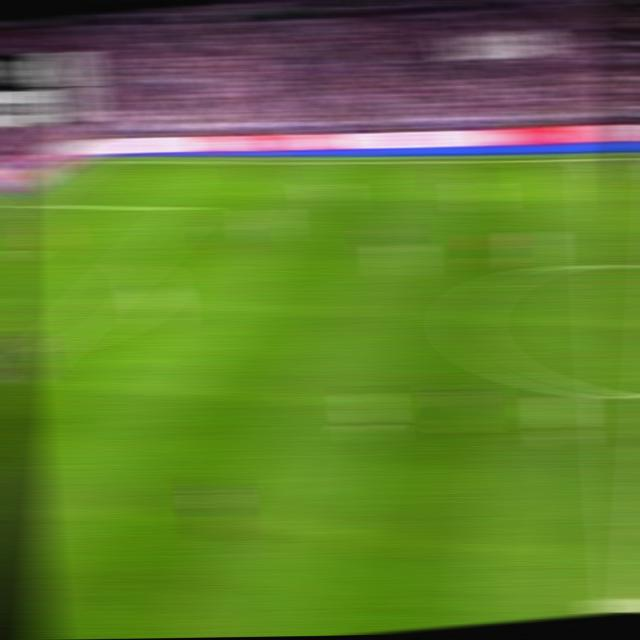bigarea_top_inner: (175, 200, 203, 215)
bigarea_top_outter: (11, 198, 38, 207)
bottom_arc_area_intersection: (33, 339, 62, 357)
corner: (76, 156, 105, 165)
halfcircle_bottom: (600, 378, 635, 408)
halfcircle_top: (592, 251, 627, 277)
midline_top_intersection: (588, 154, 618, 165)
smallarea_top_inner: (1, 246, 28, 256)
top_arc_area_intersection: (120, 253, 151, 271)
